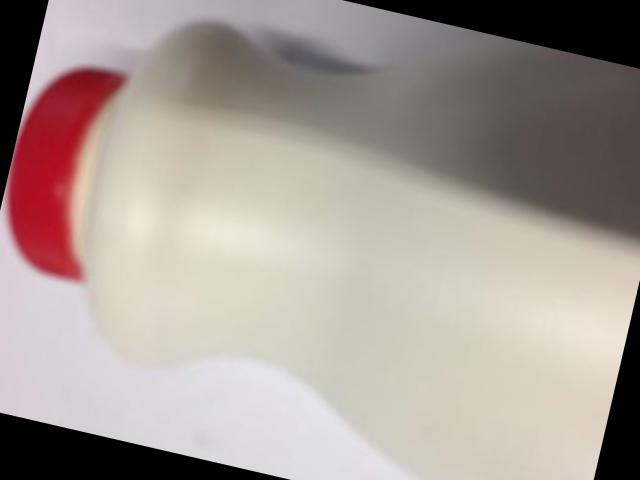plastic: (7, 24, 640, 480)
